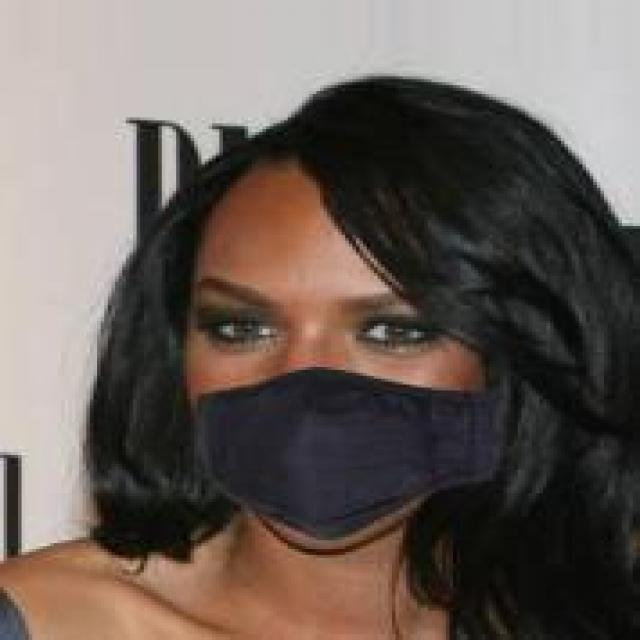mask: (144, 59, 611, 566)
